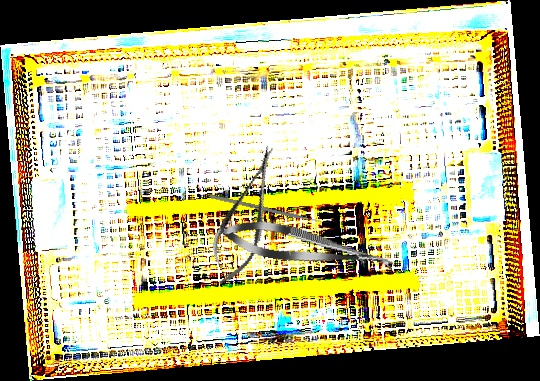Micro Scissor: (198, 139, 295, 293), (217, 213, 399, 282)
Pusher: (209, 194, 331, 226)
